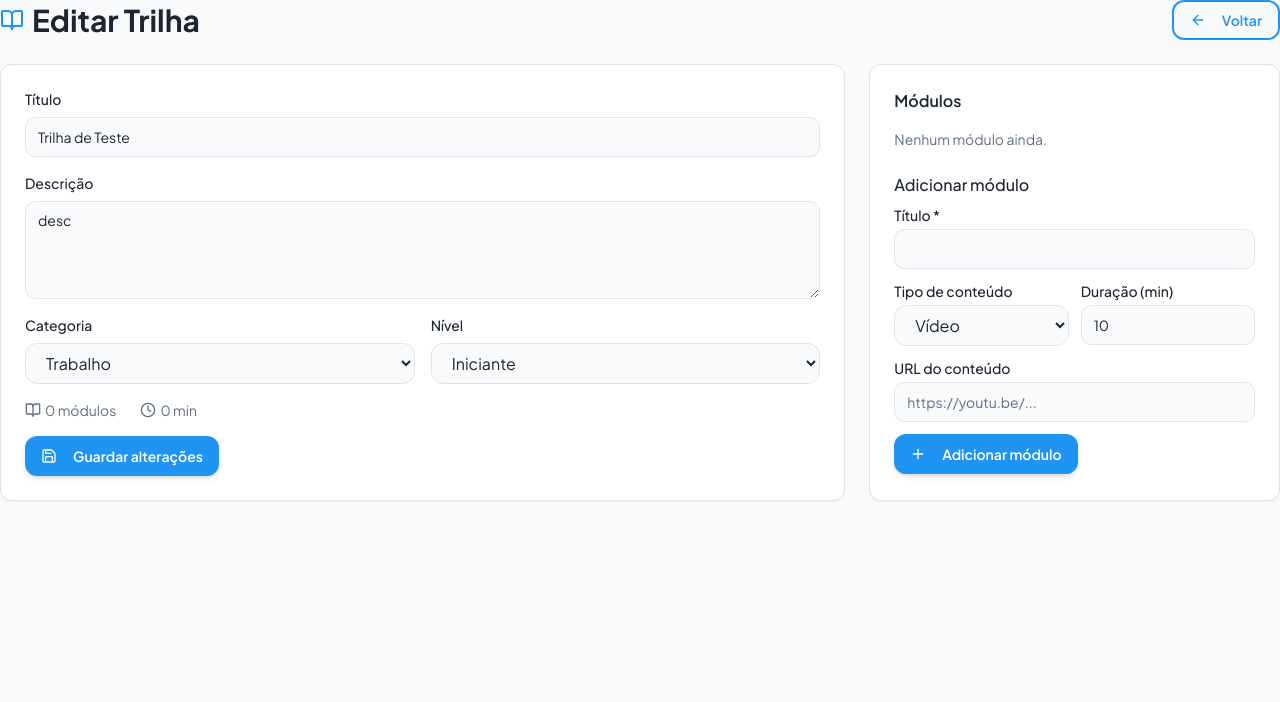
Test: TrailEditorPage — quiz editor › mostra bloco de quiz quando content_type = quiz é selecionado
Check: the heading "Editar Trilha" is shown, box [32,2,200,38]
Select "Quiz" in the dropdown labelled "Tipo de conteúdo" at (981, 326), box [894,305,1069,346]
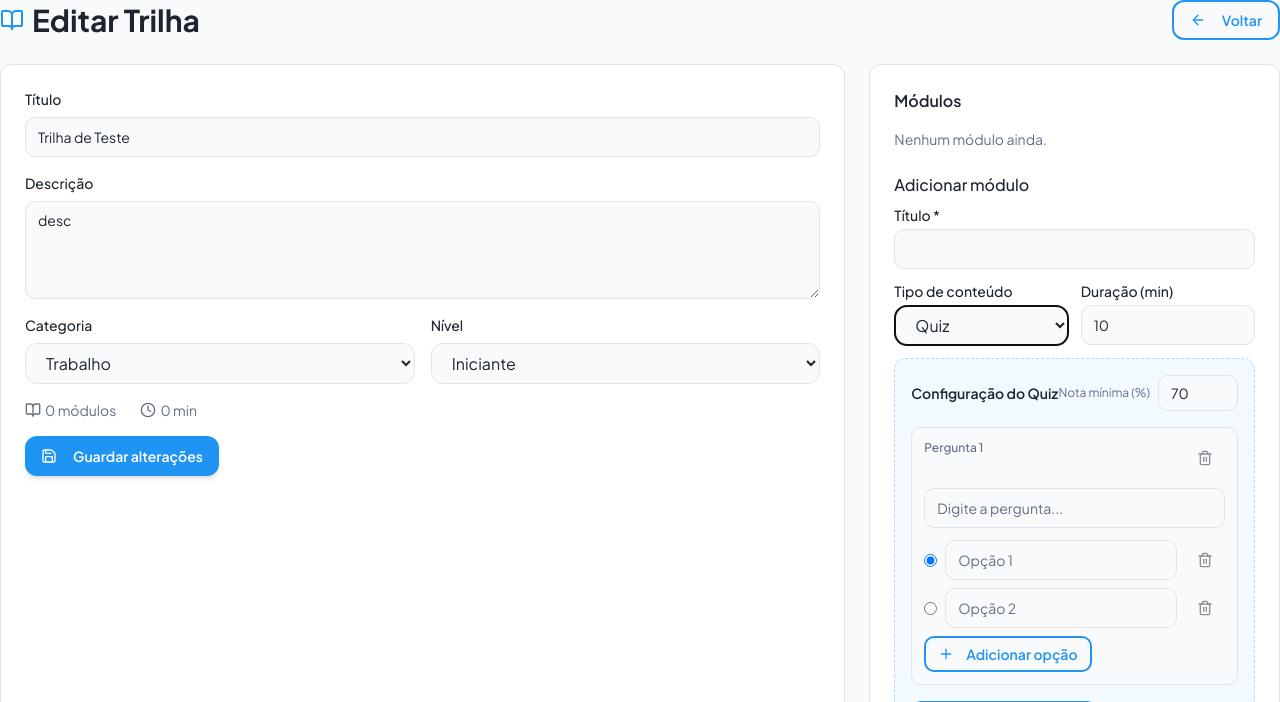
Check: the text "Configuração do Quiz" is shown, box [911,383,1058,403]
Check: the text "Pergunta 1" is shown, box [924,440,983,456]
